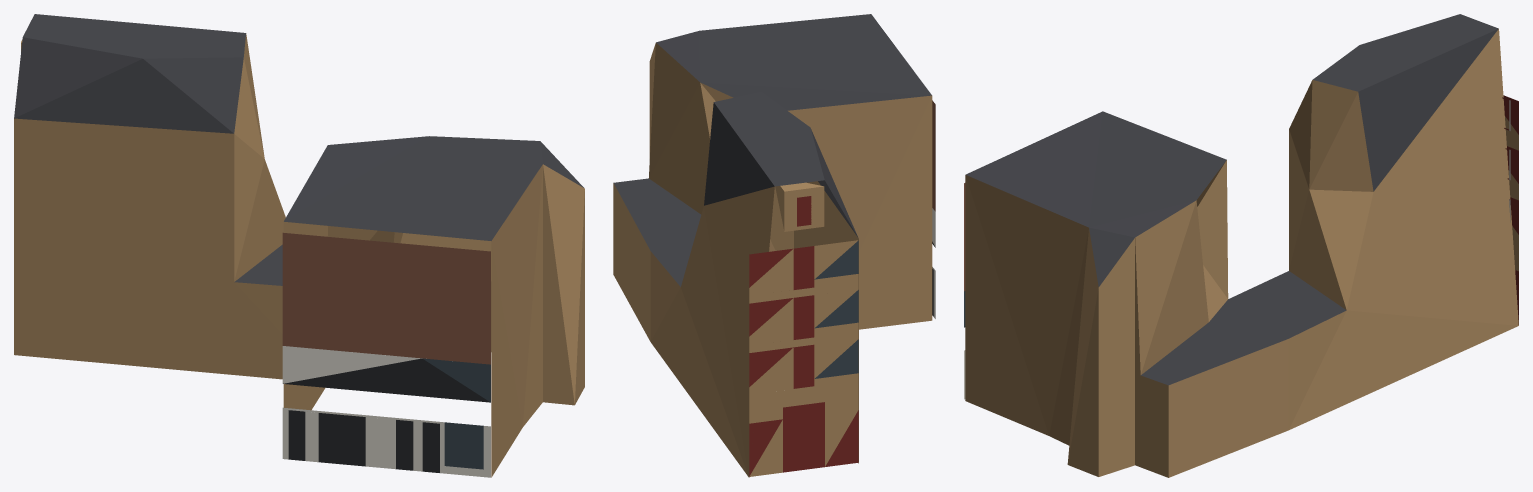
Rendered from roode-bioscoop.lod2.glb.
3 views of the same model, side by side, from view 1: azimuth 30°, elevation 25°; view 2: azimuth 150°, elevation 25°; view 3: azimuth 270°, elevation 25° (orthographic). The views are drawn at different scales.
Visible parts, largest first — view 1: lod2; view 2: lod2; view 3: lod2.
Boxes of the visible parts, <box> form: lod2: <box>14,14,584,477</box>; lod2: <box>613,14,935,477</box>; lod2: <box>964,14,1518,477</box>.
Bounding box in the file's own units: 21.85 × 16 × 27.66.
